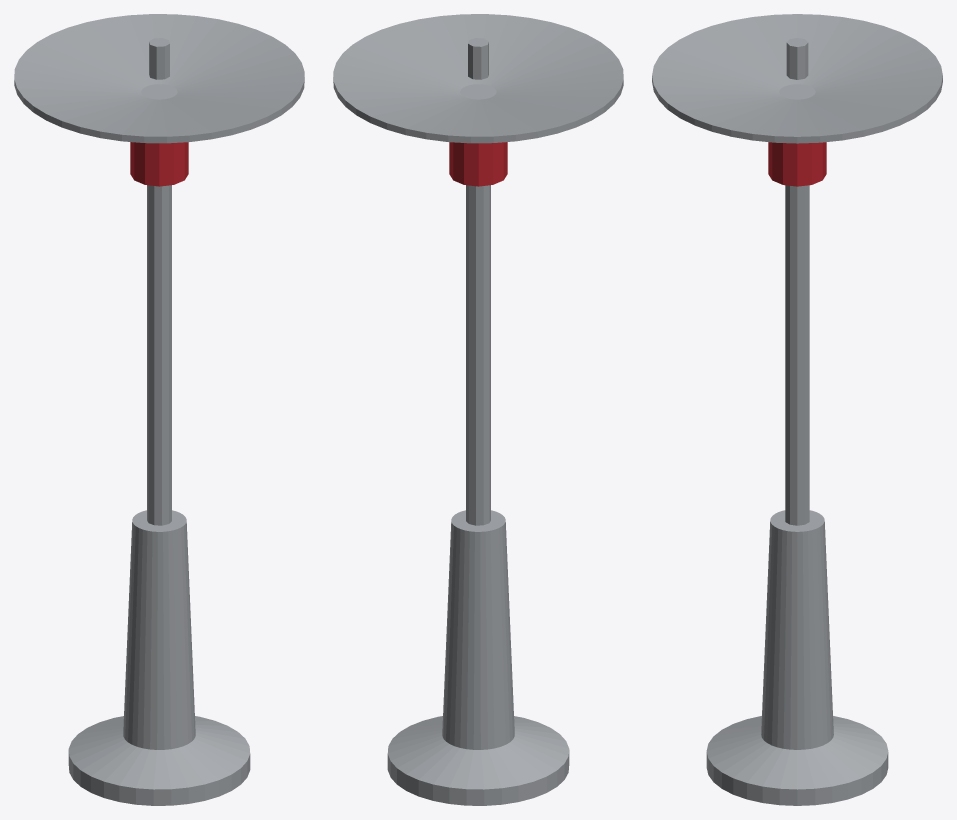
3 renders of one model, left to right at view 1: azimuth 30°, elevation 25°; view 2: azimuth 150°, elevation 25°; view 3: azimuth 270°, elevation 25°, orthographic.
Visible parts, largest first — view 1: baseOffset=0;diameter=0.5;height=2.2;material=steel_galv;pow (×2); view 2: baseOffset=0;diameter=0.5;height=2.2;material=steel_galv;pow (×2); view 3: baseOffset=0;diameter=0.5;height=2.2;material=steel_galv;pow (×2).
Part boxes in pixels (box(x1,y1,x2,y2)): baseOffset=0;diameter=0.5;height=2.2;material=steel_galv;pow (×2): box(14, 14, 304, 805); baseOffset=0;diameter=0.5;height=2.2;material=steel_galv;pow (×2): box(333, 14, 623, 805); baseOffset=0;diameter=0.5;height=2.2;material=steel_galv;pow (×2): box(652, 14, 942, 805).
Size of the model in its own units: 0.8 by 0.8 by 2.2.
